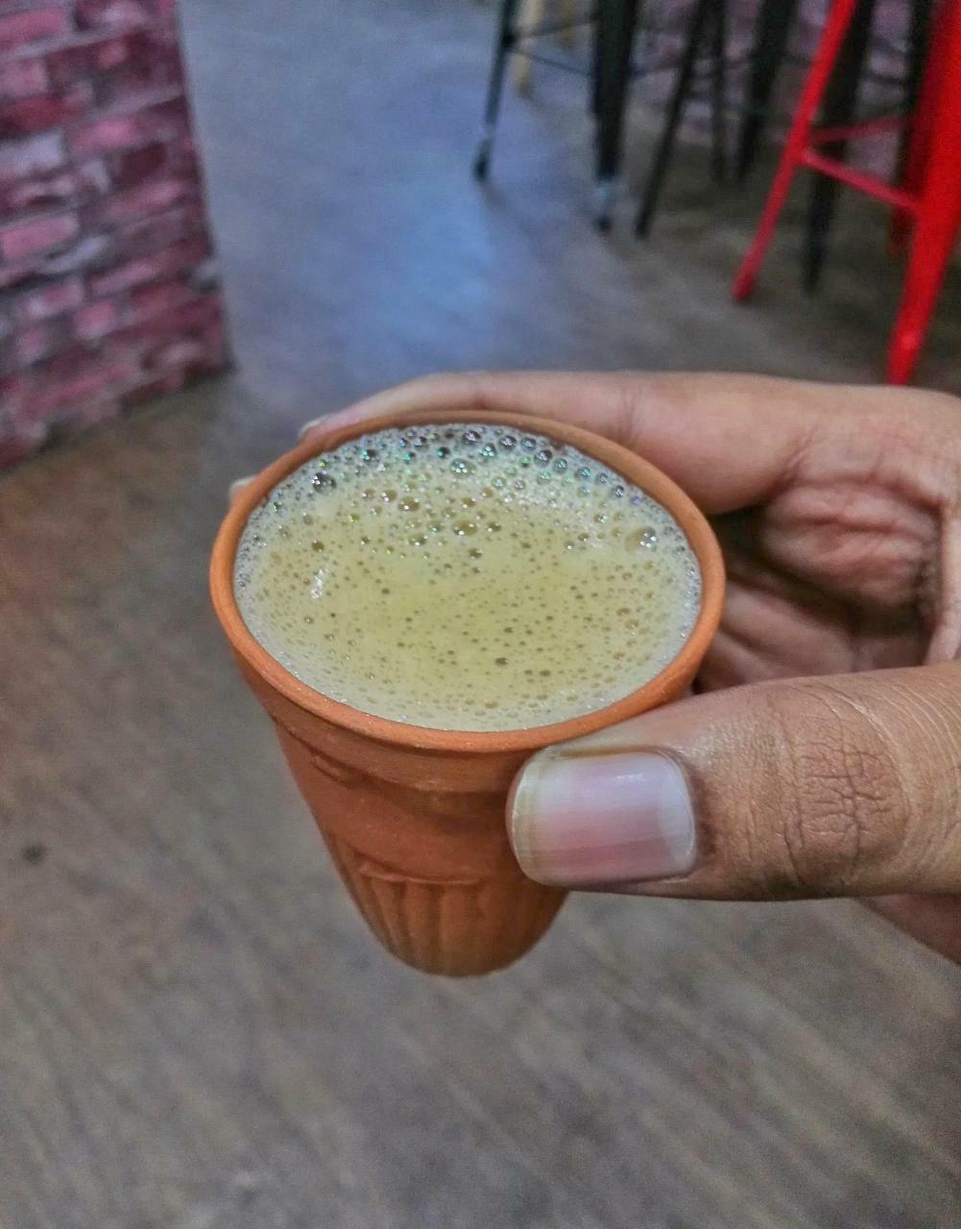Chai: (230, 424, 705, 731)
